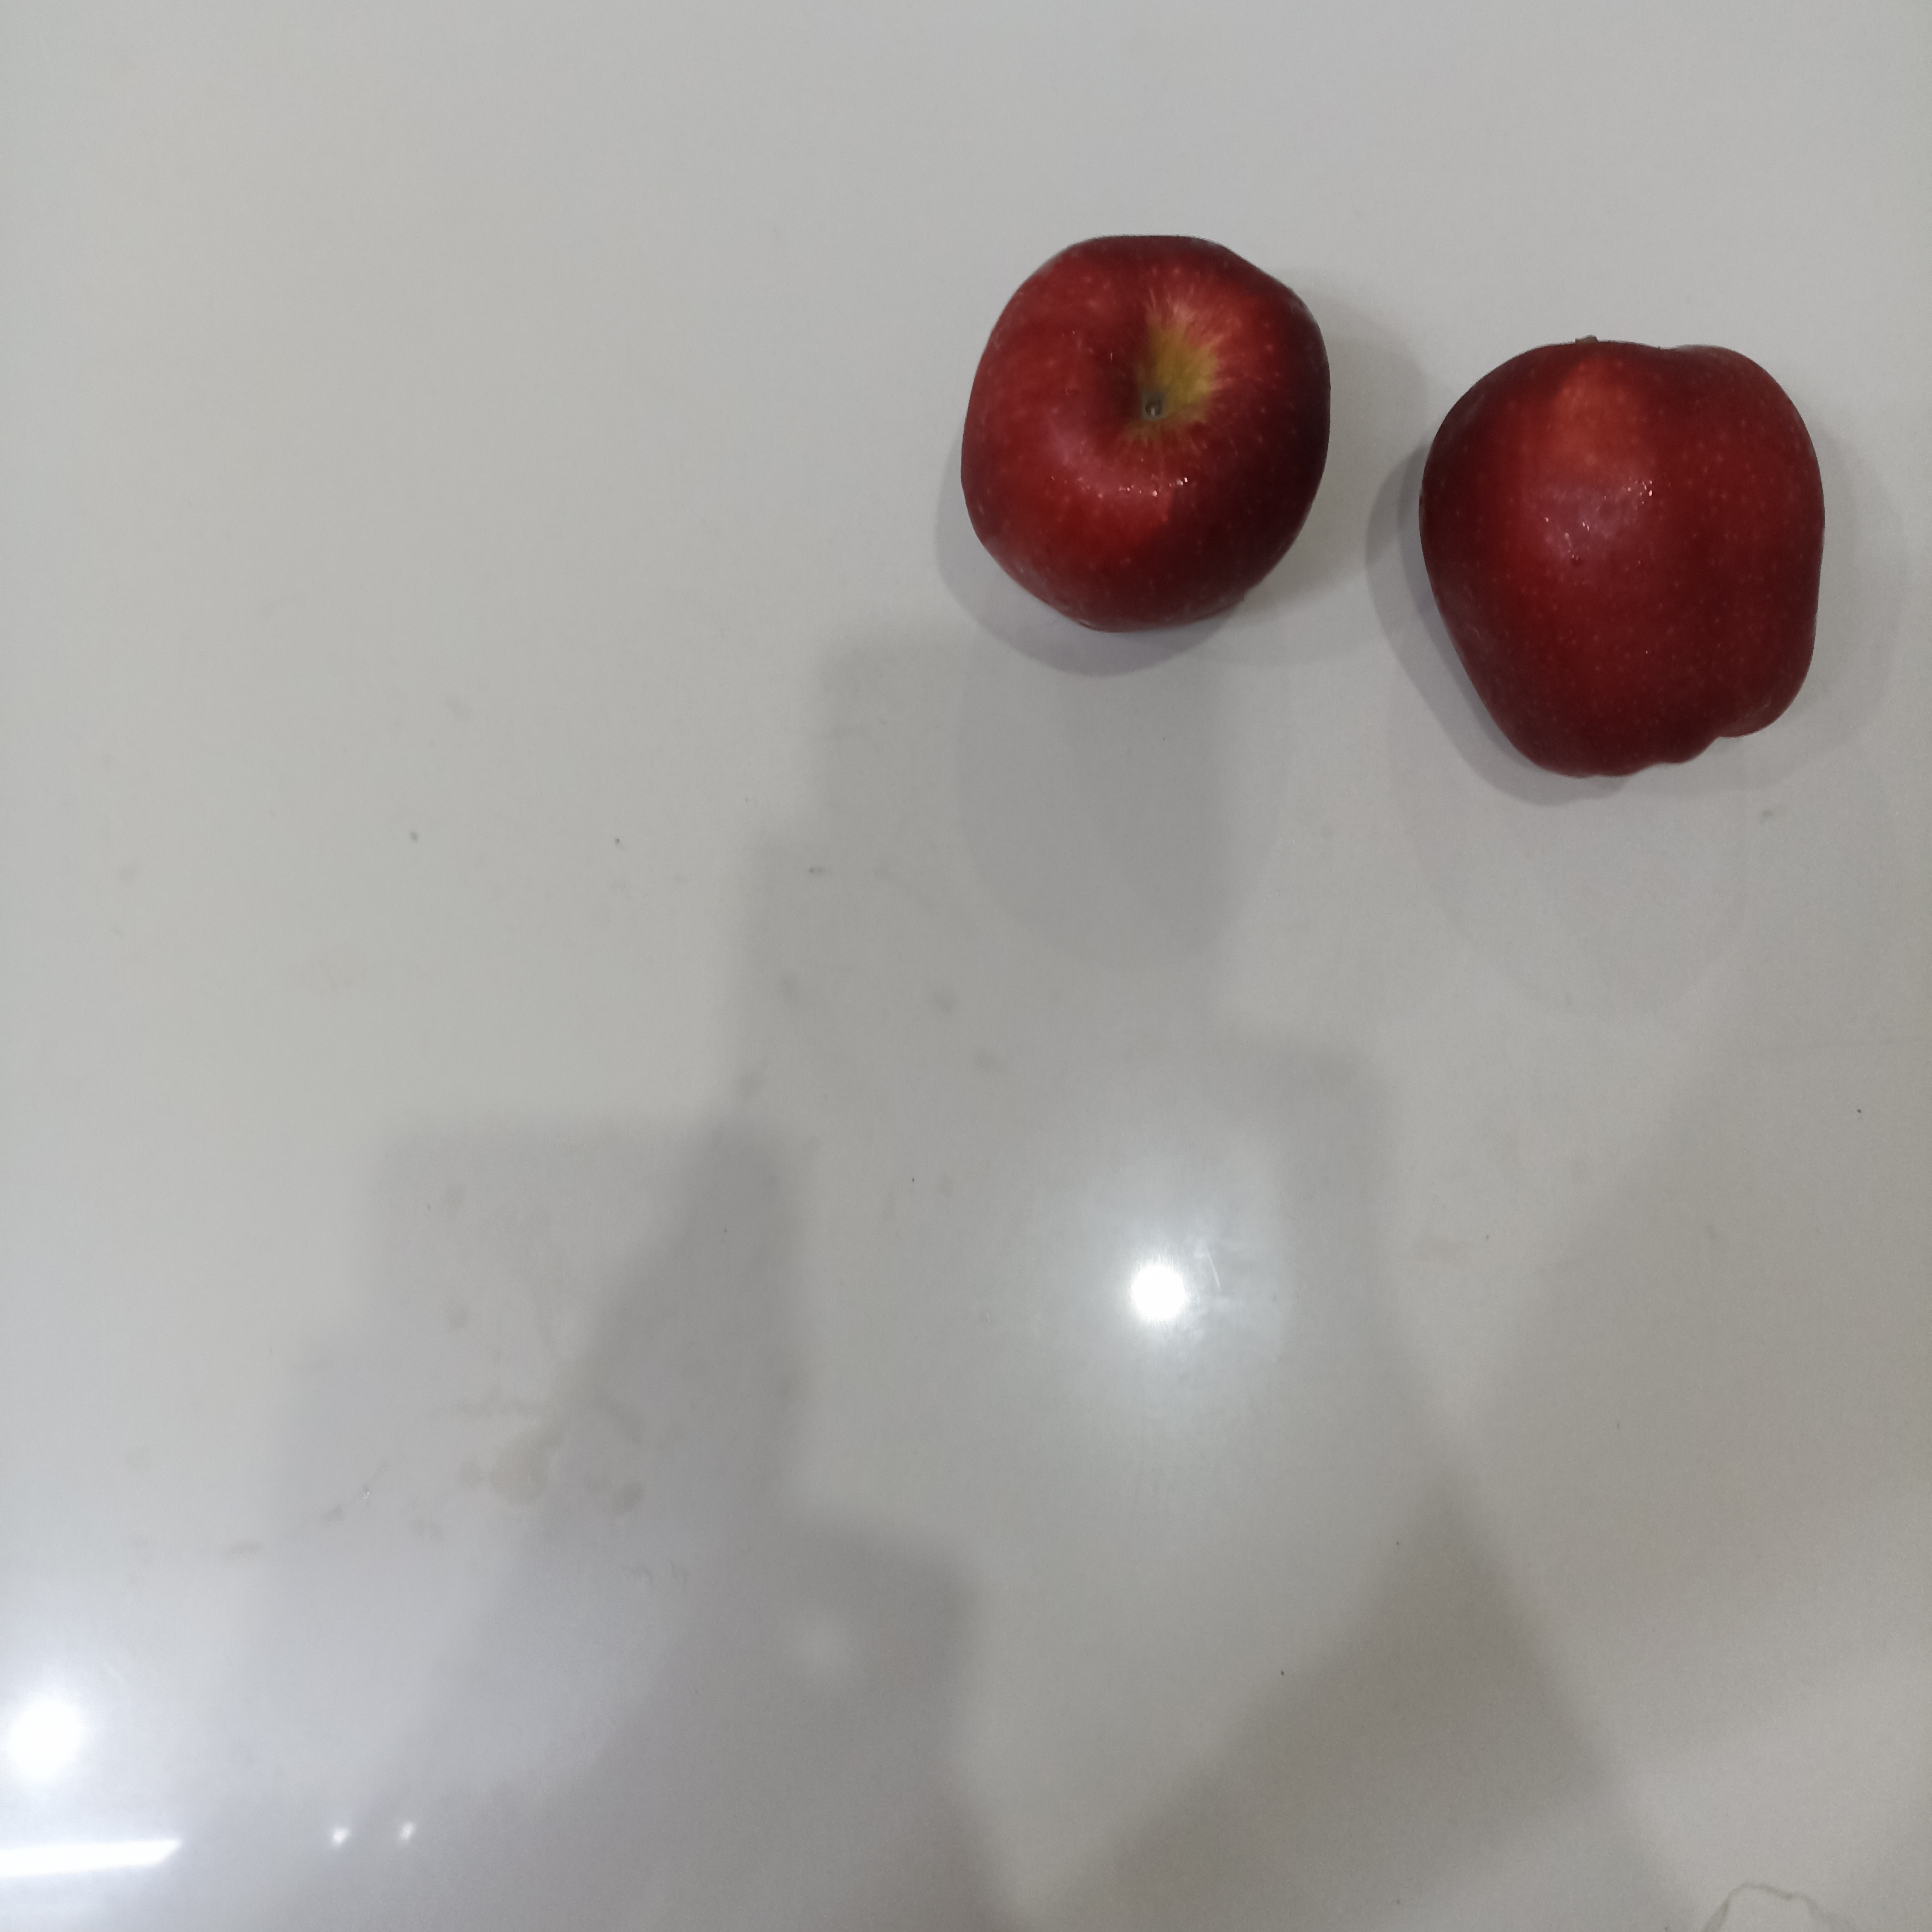Tao do: (1412, 341, 1828, 780), (959, 232, 1332, 637)
